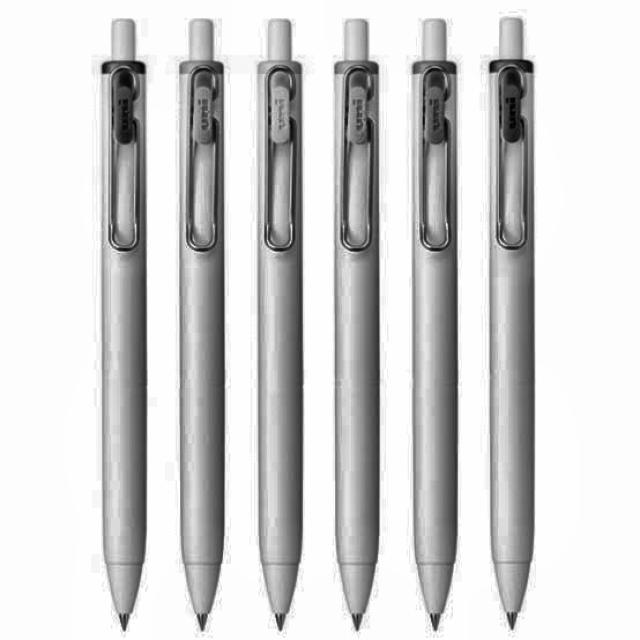Pen: (484, 14, 552, 635), (86, 9, 152, 639), (322, 13, 387, 635), (252, 9, 312, 639), (399, 14, 458, 639), (169, 15, 224, 639)
